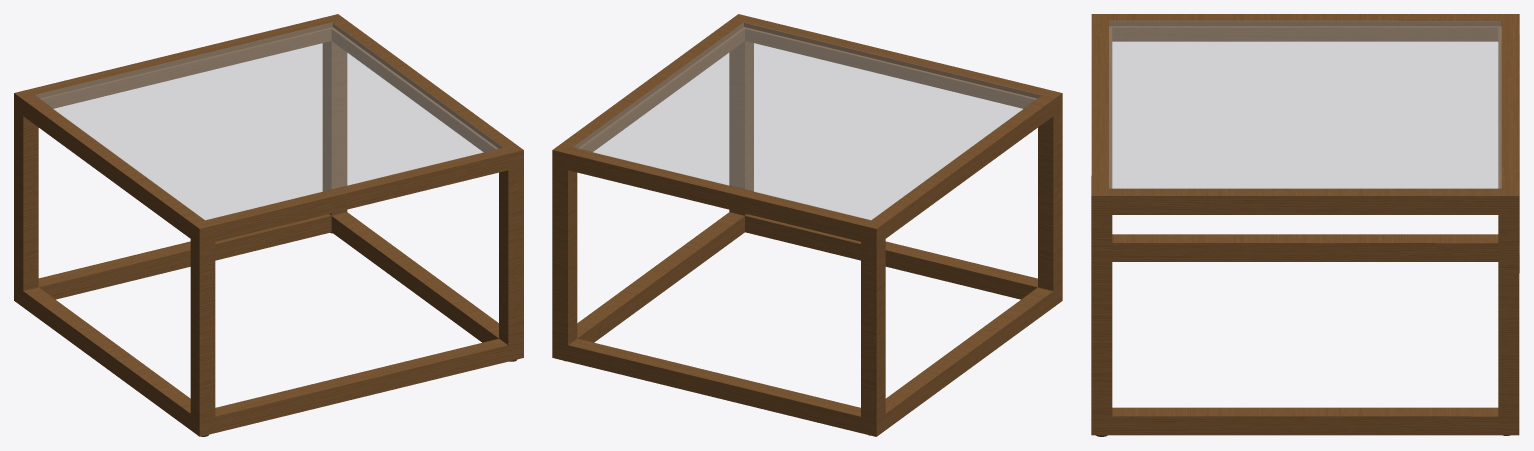
3 views of the same model, side by side, from view 1: azimuth 30°, elevation 25°; view 2: azimuth 150°, elevation 25°; view 3: azimuth 270°, elevation 25° (orthographic). The views are drawn at different scales.
Parts seen in each view (by area): view 1: C-skp28FD; view 2: C-skp28FD; view 3: C-skp28FD.
Boxes of the visible parts, left/top/right/bottom form: C-skp28FD: left=14, top=14, right=523, bottom=436; C-skp28FD: left=552, top=14, right=1062, bottom=436; C-skp28FD: left=1091, top=14, right=1519, bottom=436.
Bounding box in the file's own units: 0.6332 × 0.3939 × 0.6289.
3 materials, 1 textured.
